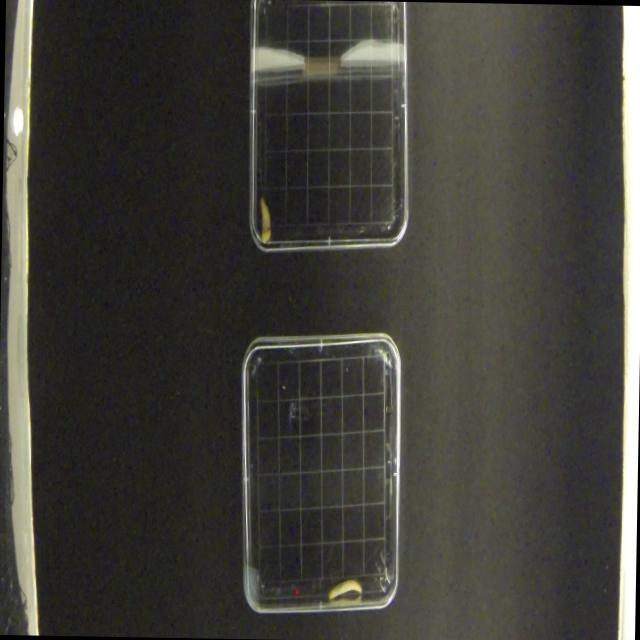larva: (326, 574, 364, 600), (256, 194, 273, 243)
